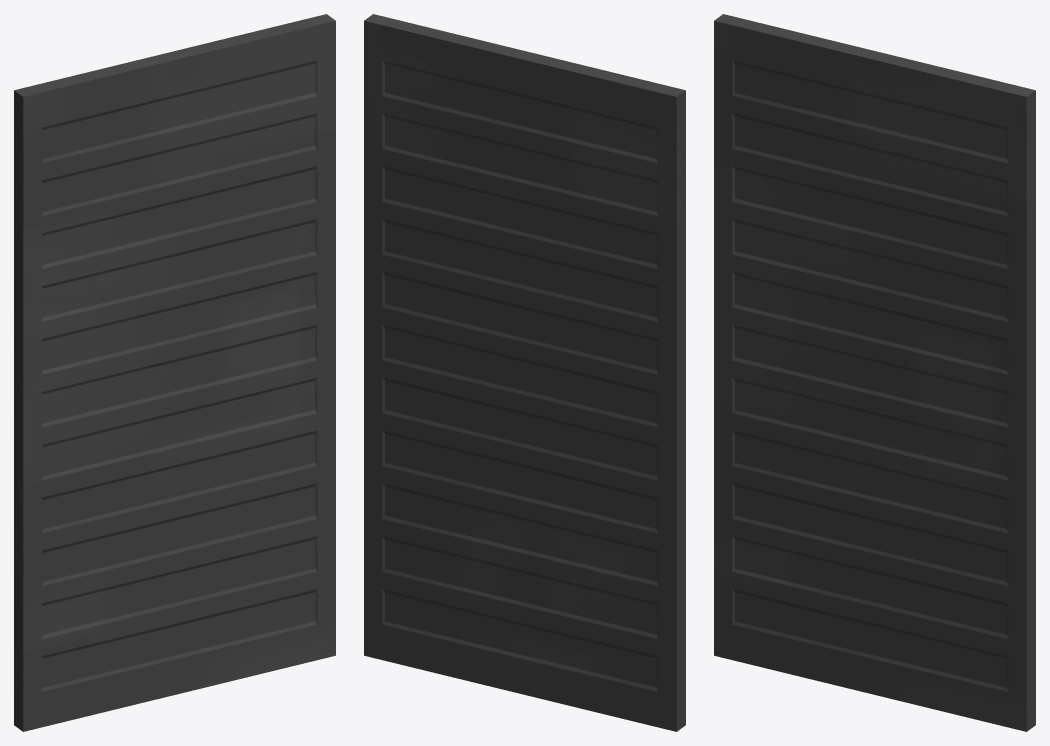
File: EN_W_Door_lvl1.fbx
The picture shows the model from 3 angles, left to right: view 1: azimuth 30°, elevation 25°; view 2: azimuth 150°, elevation 25°; view 3: azimuth 330°, elevation 25°; orthographic projection.
Parts seen in each view (by area): view 1: polySurface42; view 2: polySurface42; view 3: polySurface42.
Part boxes in pixels (x1=…): polySurface42: x1=14, y1=14, x2=335, y2=731; polySurface42: x1=364, y1=14, x2=685, y2=731; polySurface42: x1=714, y1=14, x2=1035, y2=731.
Size of the model in its own units: 134 by 260 by 6.86.
